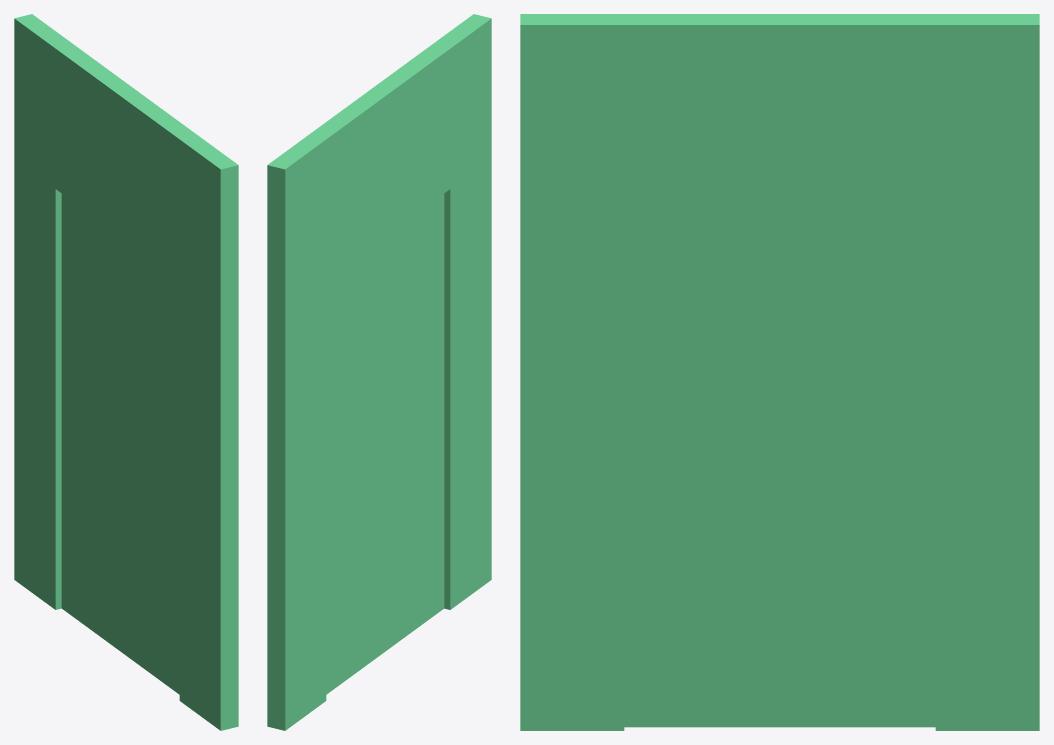
File: door_left.fbx
3 views of the same model, side by side, from view 1: azimuth 30°, elevation 25°; view 2: azimuth 150°, elevation 25°; view 3: azimuth 270°, elevation 25° (orthographic). The views are drawn at different scales.
Parts seen in each view (by area): view 1: 2-3wall.002, 2-3wall.003; view 2: 2-3wall.002, 2-3wall.003; view 3: 2-3wall.002, 2-3wall.003.
Boxes of the visible parts, bbox=[...] form: 2-3wall.002: bbox=[14, 14, 238, 730]; 2-3wall.003: bbox=[61, 194, 179, 694]; 2-3wall.002: bbox=[267, 14, 491, 730]; 2-3wall.003: bbox=[326, 194, 444, 694]; 2-3wall.002: bbox=[520, 14, 1039, 730]; 2-3wall.003: bbox=[624, 201, 935, 727].
Size of the model in its own units: 10 by 300 by 200.
